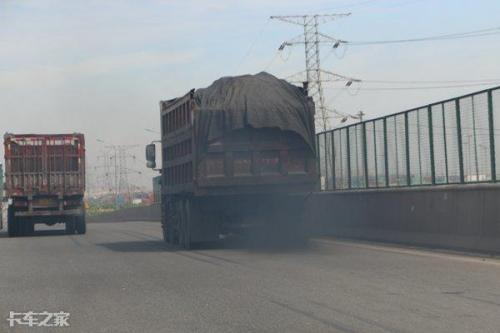smoke: (218, 182, 342, 259)
